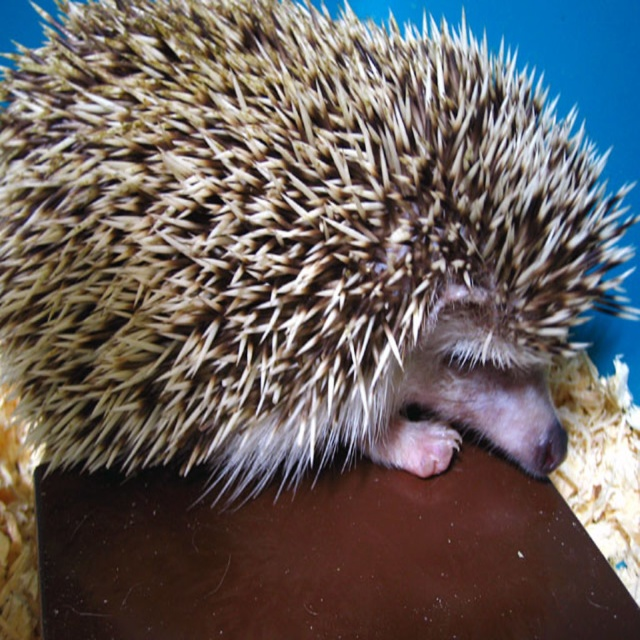Hedgehog: (0, 0, 639, 520)
